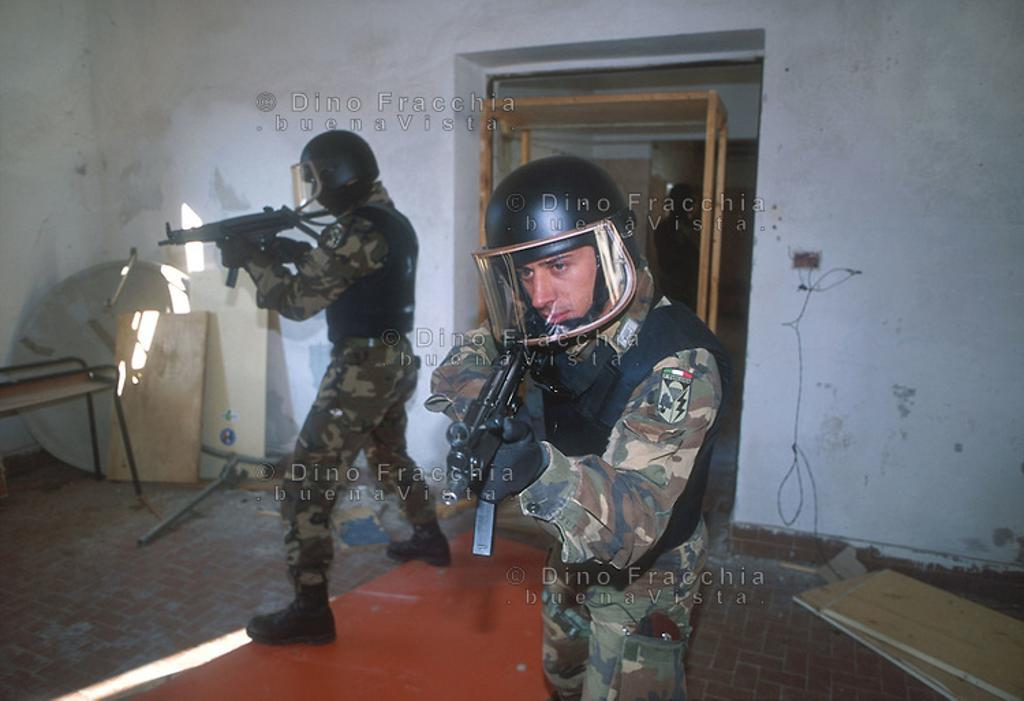face: (509, 225, 605, 343)
